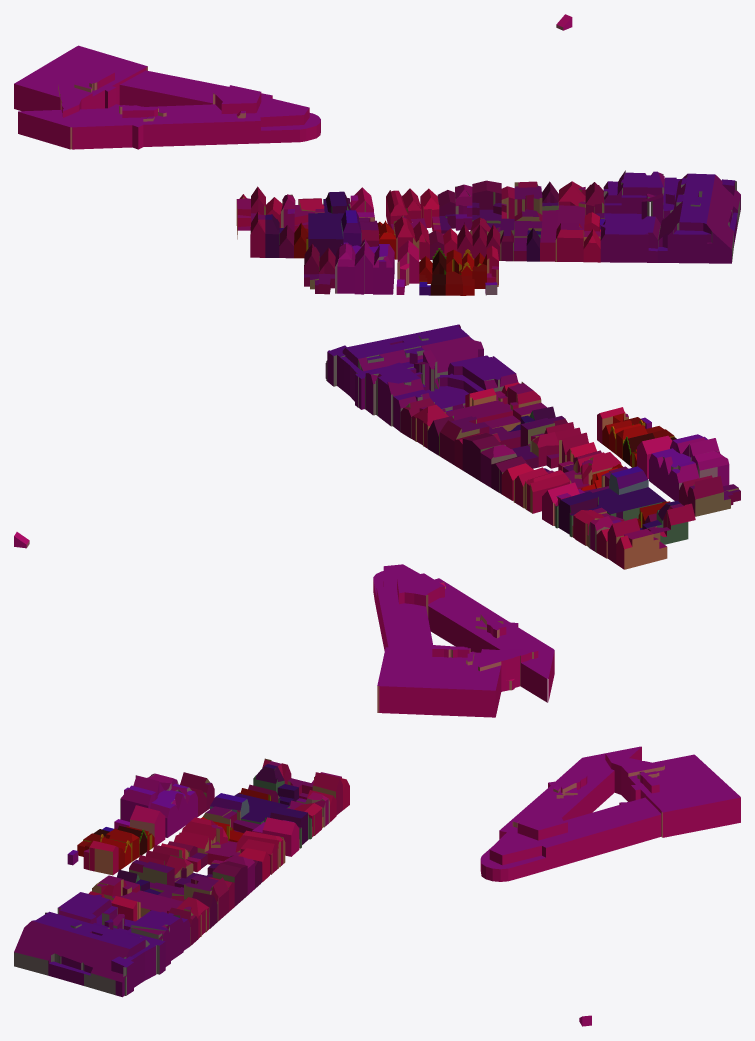
File: buildings_9_8.glb
3 renders of one model, top to bottom at view 1: azimuth 30°, elevation 25°; view 2: azimuth 150°, elevation 25°; view 3: azimuth 270°, elevation 25°, orthographic. The views are drawn at different scales.
Visible parts, largest first — view 1: buildings_9_8; view 2: buildings_9_8; view 3: buildings_9_8.
Boxes of the visible parts, x1=… form: buildings_9_8: x1=14, y1=14, x2=740, y2=295; buildings_9_8: x1=14, y1=324, x2=740, y2=717; buildings_9_8: x1=14, y1=746, x2=740, y2=1026.
Bounding box in the file's own units: 196 × 14.58 × 233.
